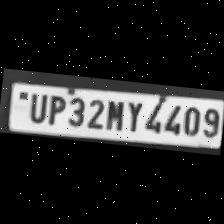0: (179, 103, 202, 138)
2: (84, 94, 106, 130)
3: (64, 92, 86, 128)
4: (142, 98, 164, 134), (160, 101, 182, 136)
9: (197, 103, 222, 138)
M: (104, 96, 126, 132)
P: (43, 90, 66, 126)
U: (25, 90, 48, 122)
Y: (122, 97, 144, 133)
